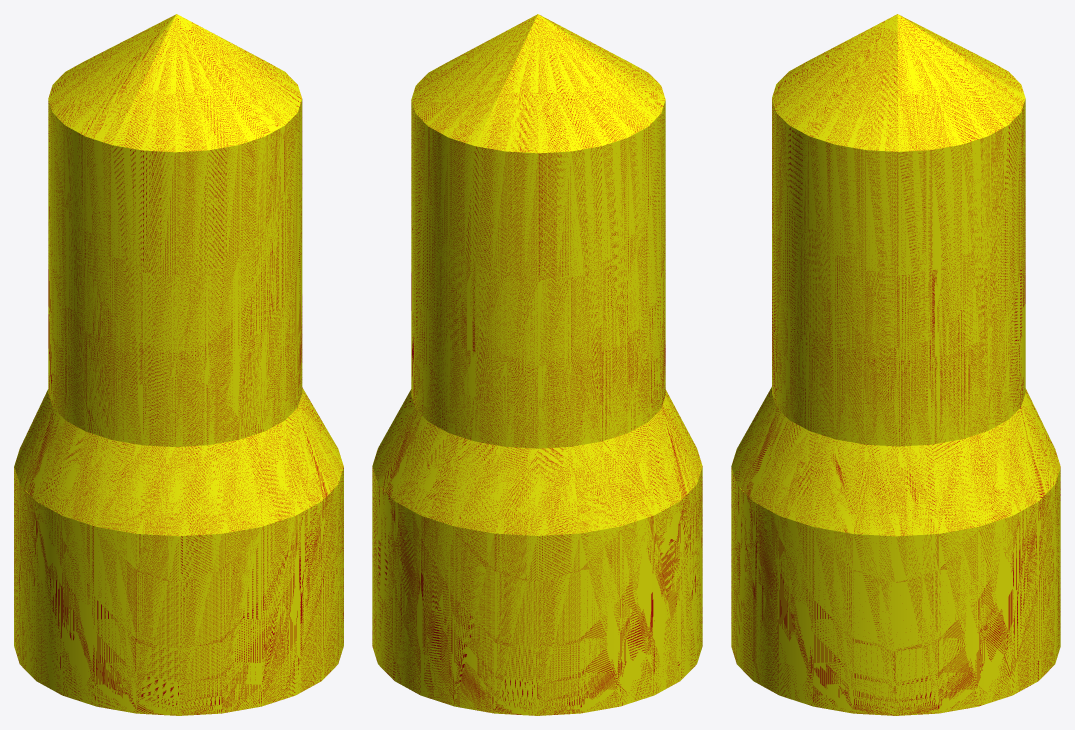
File: yellow_buoy_marker.dae
3 renders of one model, left to right at view 1: azimuth 30°, elevation 25°; view 2: azimuth 150°, elevation 25°; view 3: azimuth 270°, elevation 25°, orthographic.
Visible parts, largest first — view 1: SketchUp (×3); view 2: SketchUp (×3); view 3: SketchUp (×3).
Boxes of the visible parts, x1=… form: SketchUp (×3): x1=14, y1=14, x2=343, y2=715; SketchUp (×3): x1=372, y1=14, x2=702, y2=715; SketchUp (×3): x1=731, y1=14, x2=1060, y2=715.
Bounding box in the file's own units: 37 × 37 × 78.25.
